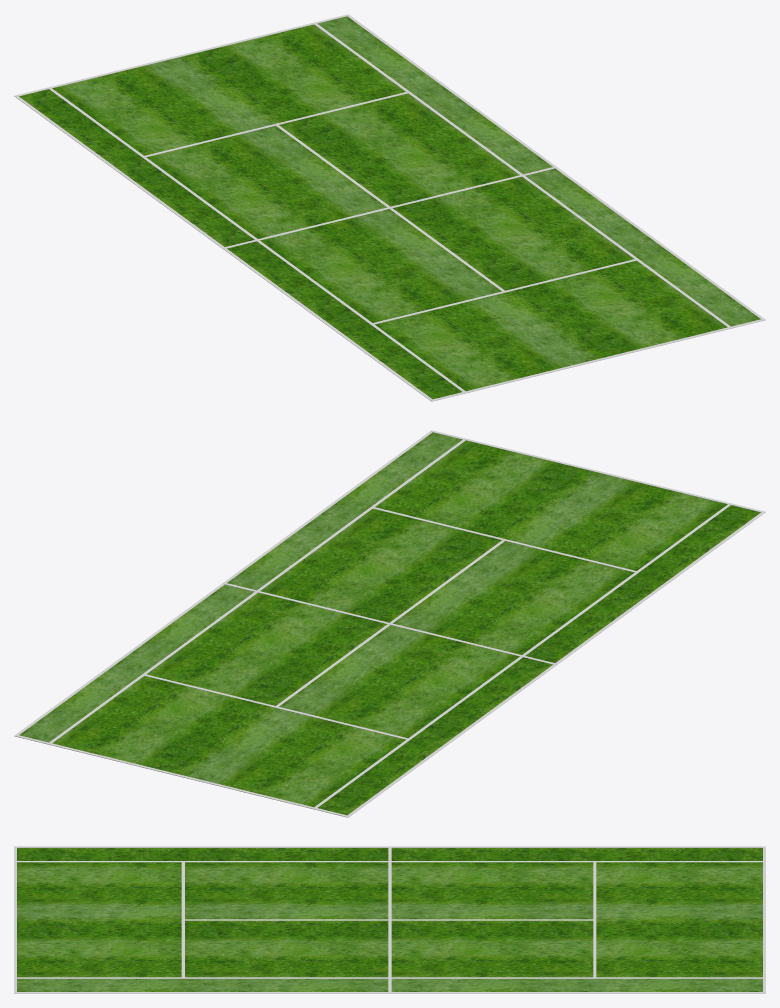
Rendered from TennisCourt_gurasu.fbx.
3 views of the same model, one above another, from view 1: azimuth 30°, elevation 25°; view 2: azimuth 150°, elevation 25°; view 3: azimuth 270°, elevation 25° (orthographic). The views are drawn at different scales.
Parts seen in each view (by area): view 1: group_pasted__pCube2; view 2: group_pasted__pCube2; view 3: group_pasted__pCube2.
Part boxes in pixels (<box>): group_pasted__pCube2: <box>14,14,765,401</box>; group_pasted__pCube2: <box>14,430,765,817</box>; group_pasted__pCube2: <box>14,846,765,993</box>.
Size of the model in its own units: 11.1 by 0.015 by 24.
Materials: 9 (1 with a texture image).
